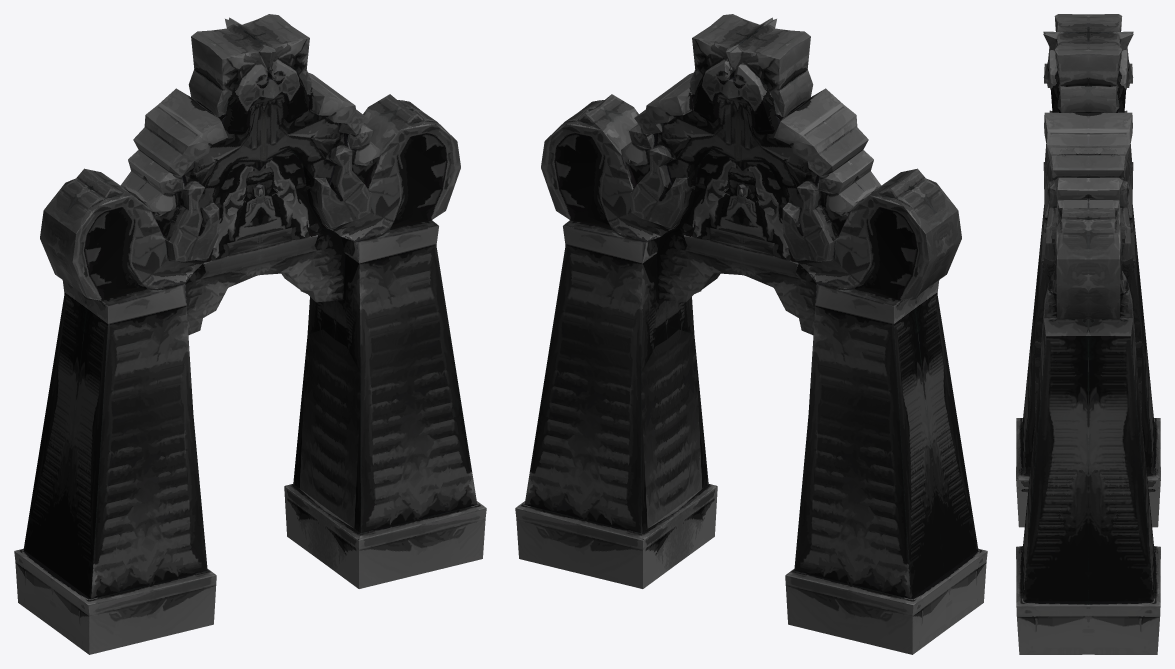
The model's file is VV-MakaraTorana.fbx.
3 views of the same model, side by side, from view 1: azimuth 30°, elevation 25°; view 2: azimuth 150°, elevation 25°; view 3: azimuth 270°, elevation 25° (orthographic). The views are drawn at different scales.
Parts seen in each view (by area): view 1: MakaraTorana; view 2: MakaraTorana; view 3: MakaraTorana.
Part boxes in pixels (x1,y1,x2,y2): MakaraTorana: (14, 14, 486, 654); MakaraTorana: (515, 14, 987, 654); MakaraTorana: (1016, 14, 1160, 654).
Size of the model in its own units: 6.83 by 8.95 by 2.22.
